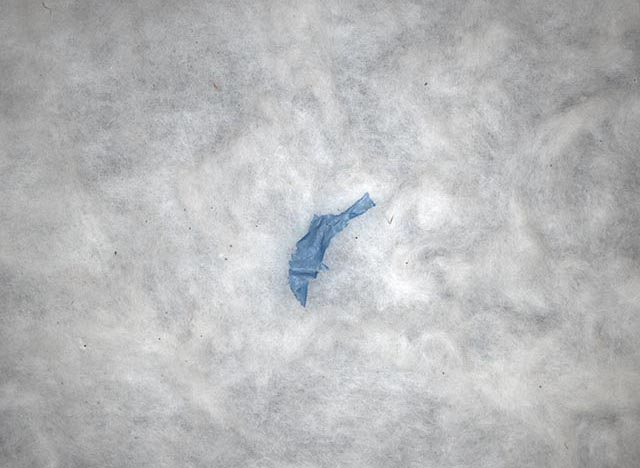plastic film: (287, 191, 376, 307)
